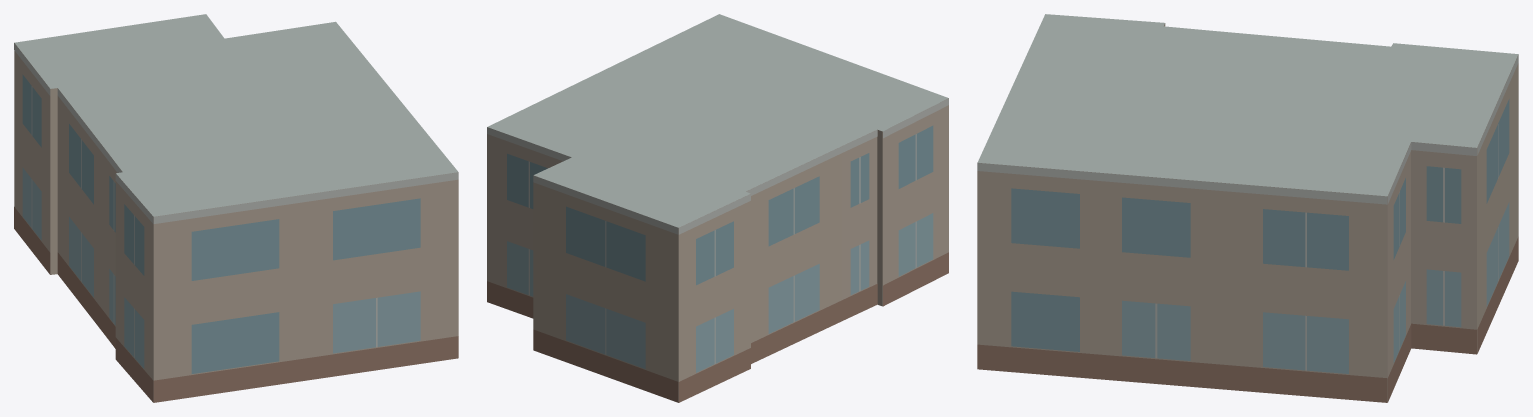
File: survey-upis-32676579.glb
The picture shows the model from 3 angles, left to right: view 1: azimuth 30°, elevation 25°; view 2: azimuth 150°, elevation 25°; view 3: azimuth 270°, elevation 25°; orthographic projection. The views are drawn at different scales.
Parts seen in each view (by area): view 1: survey-upis-32676579.tmp; view 2: survey-upis-32676579.tmp; view 3: survey-upis-32676579.tmp.
Part boxes in pixels (<box>): survey-upis-32676579.tmp: <box>14,14,458,402</box>; survey-upis-32676579.tmp: <box>487,14,948,402</box>; survey-upis-32676579.tmp: <box>977,14,1518,402</box>.
Size of the model in its own units: 11.56 by 6.1 by 14.5.
